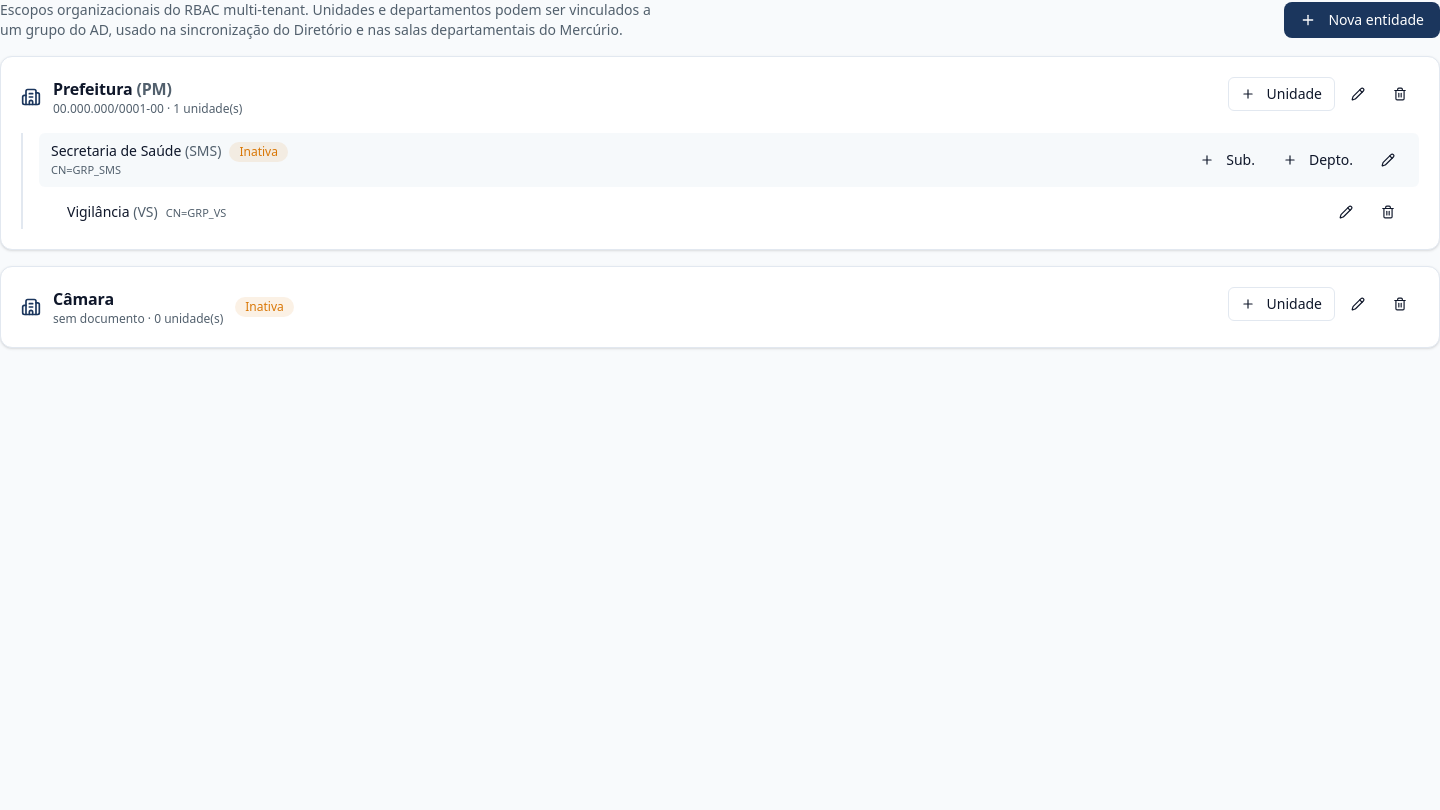
Configurações > Organização › edita a unidade sem trocar de entidade nem de mãe; exclusão recusada vira aviso
Click the button named "Editar Secretaria de Saúde": (1388, 160) [1369,147,1407,173]
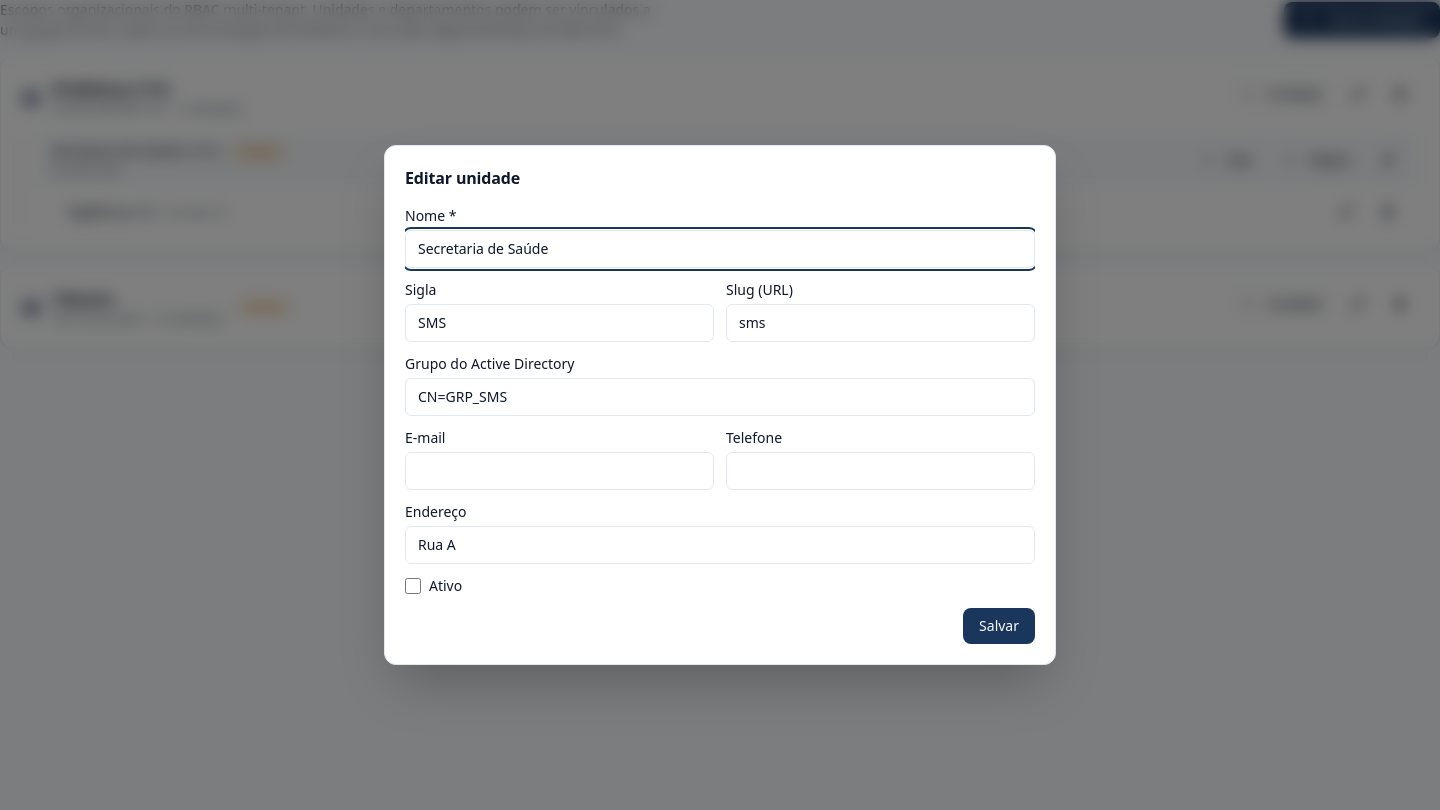
Expected: the field labelled "Nome *" holds "Secretaria de Saúde", [405,230,1035,268]
Expected: the checkbox labelled "Ativo" is not checked, [405,578,421,594]
Click the button "Salvar": (999, 626) [963,608,1035,644]
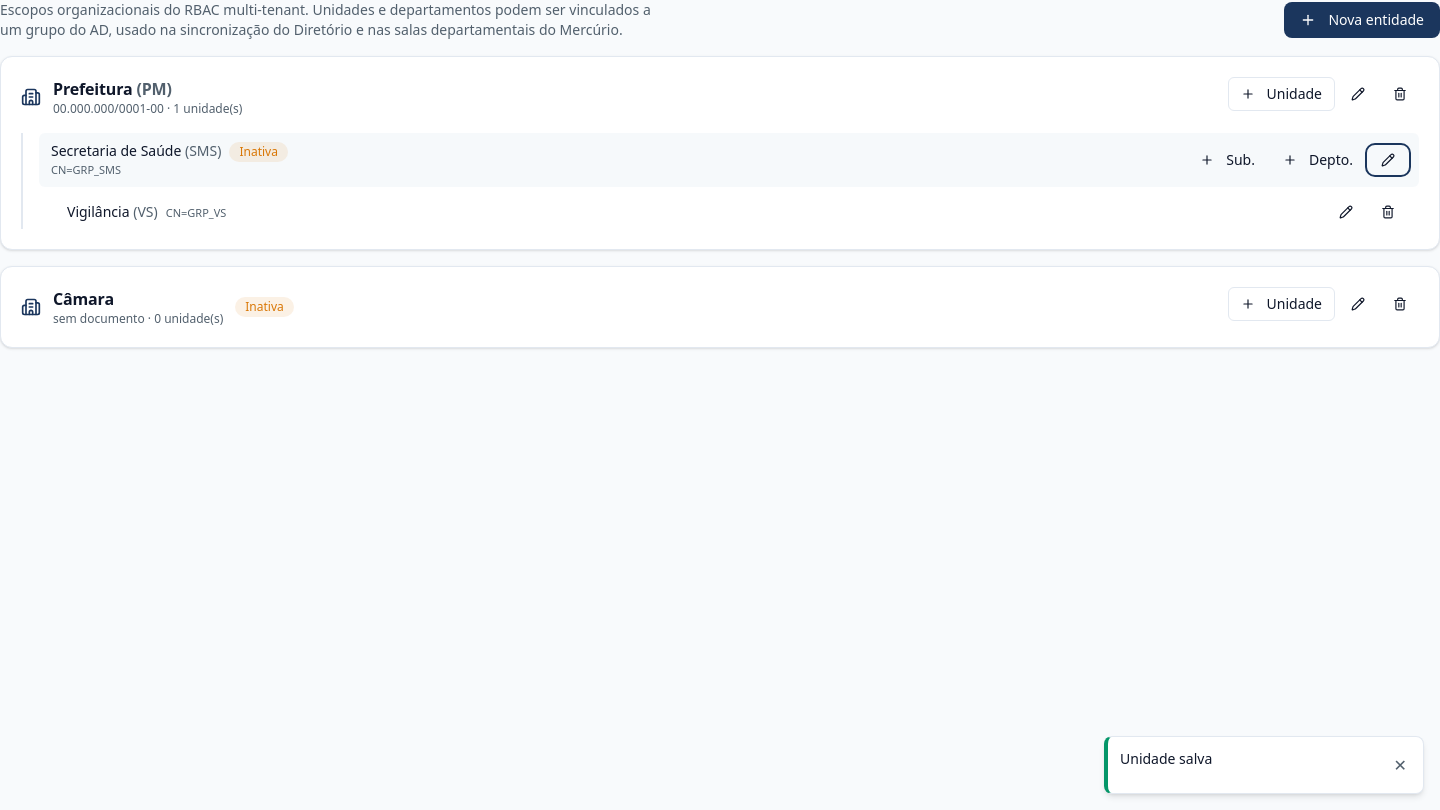
Click the button named "Excluir Vigilância": (1388, 212) [1369,198,1407,224]
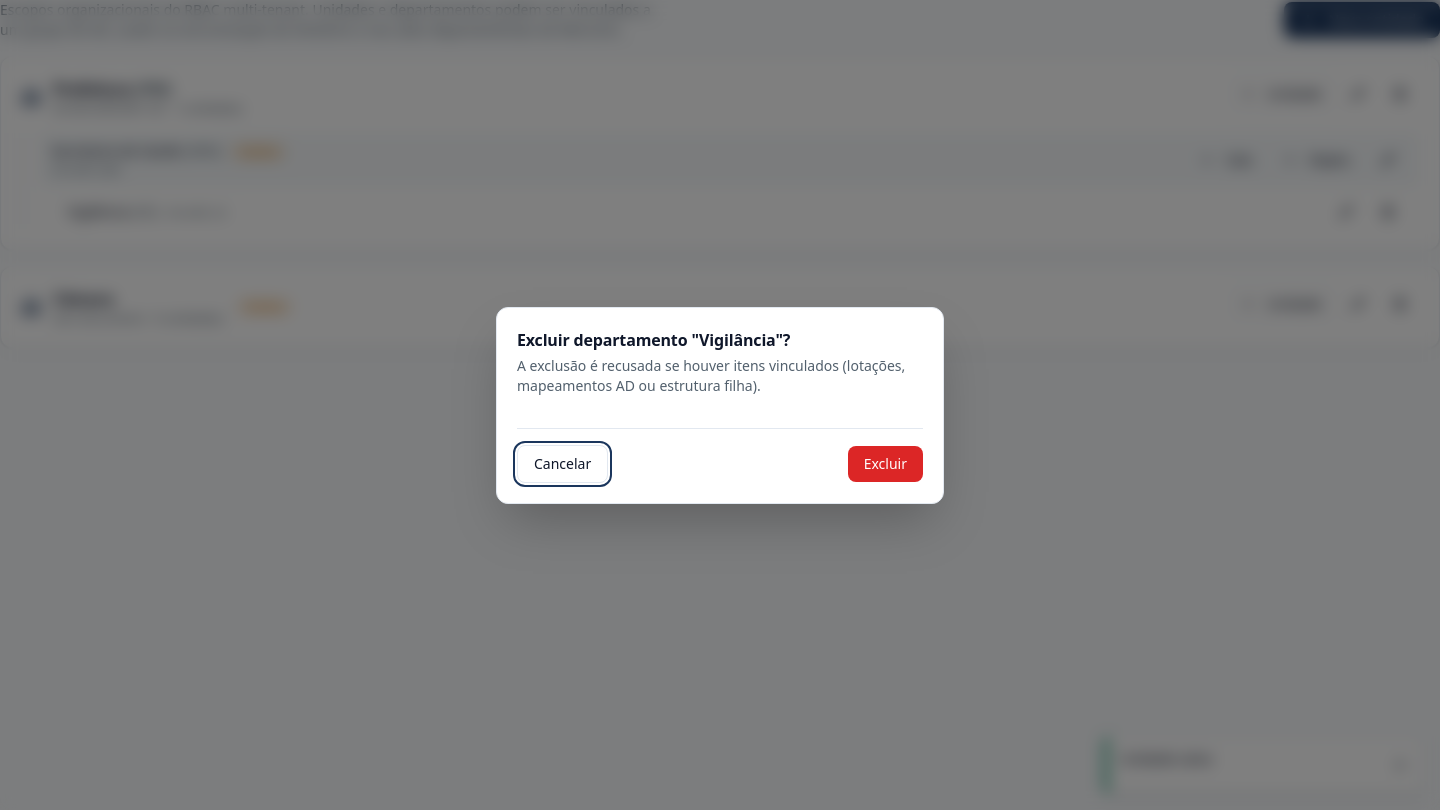
Click the button "Excluir": (885, 464) [848,446,923,482]
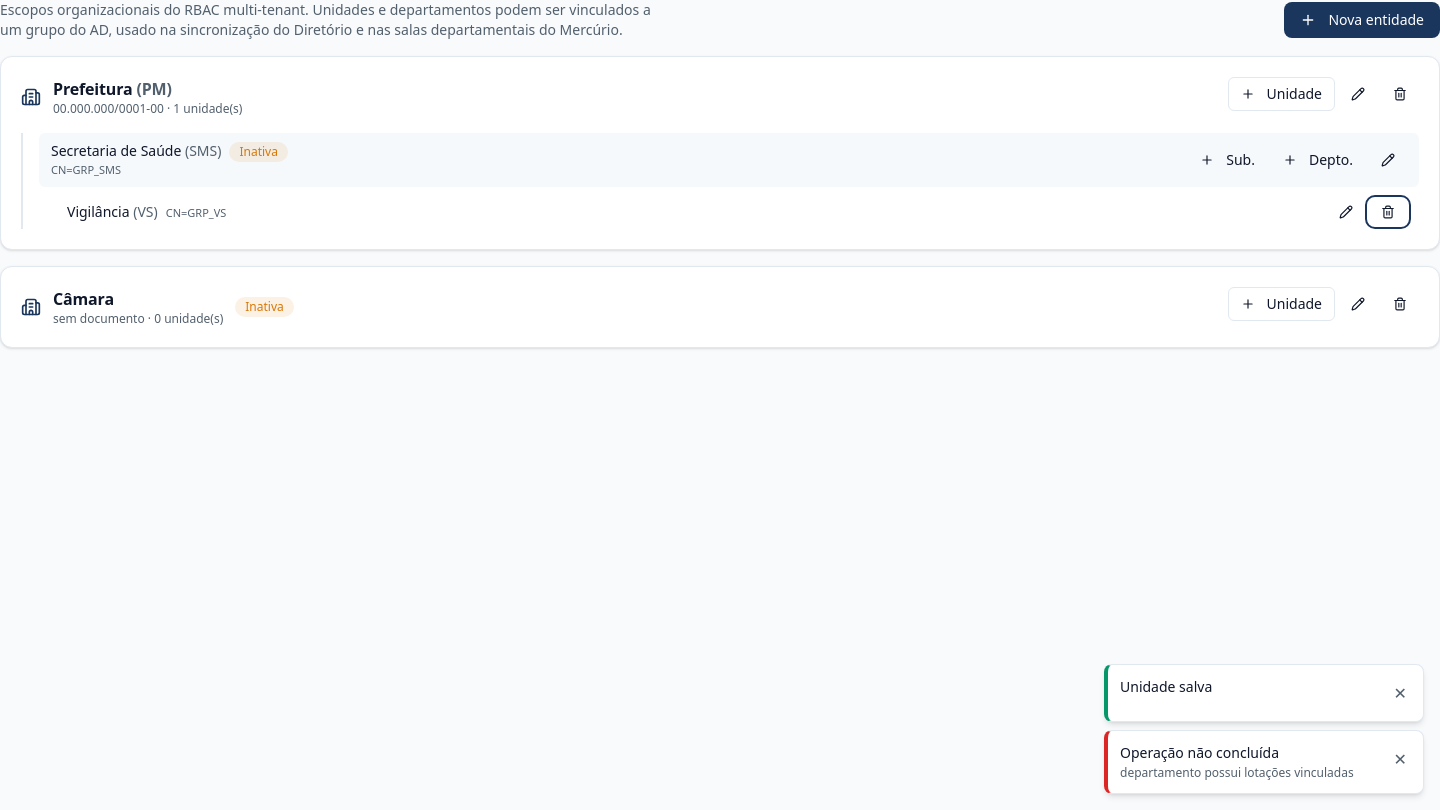
Expected: the text "departamento possui lotações vinculadas" is shown, [1120,765,1354,781]
